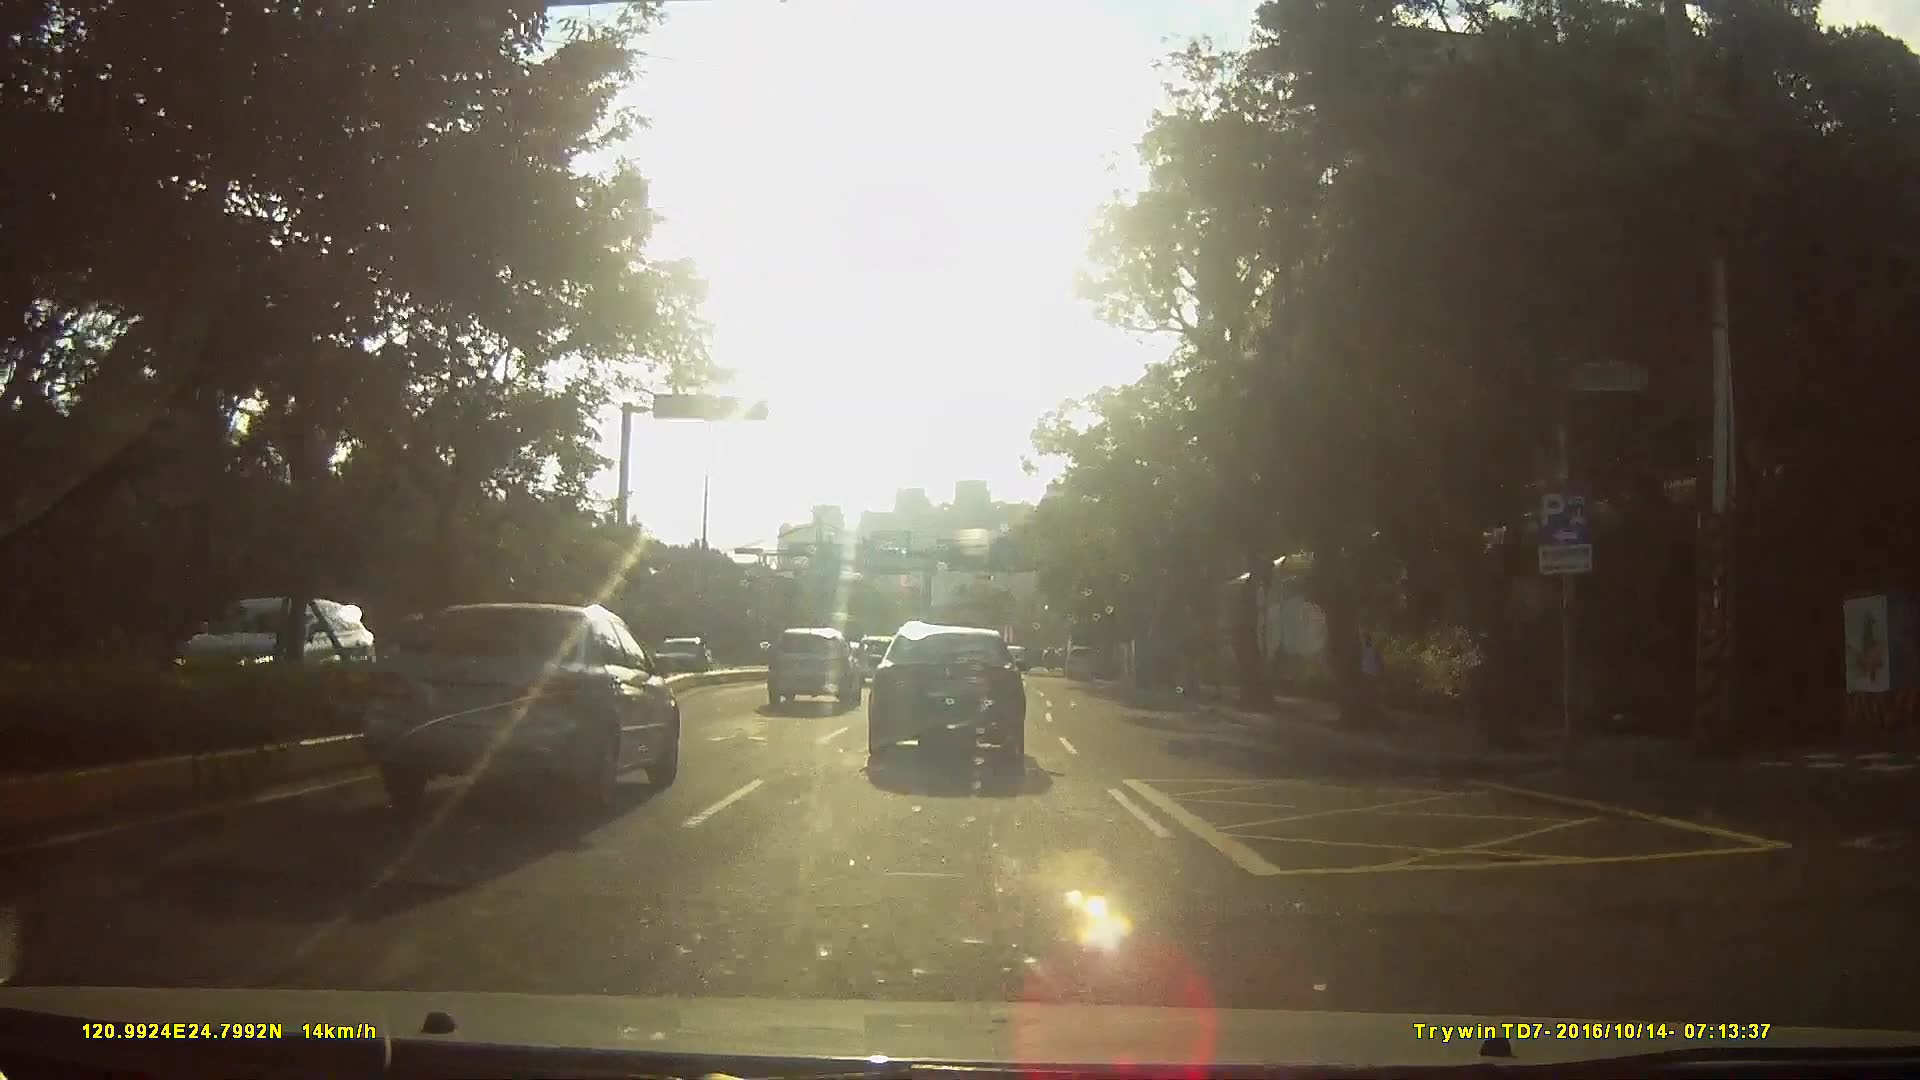vehicle: (357, 599, 678, 810), (158, 592, 377, 715), (865, 622, 1042, 767), (762, 622, 861, 707), (636, 630, 695, 675), (1060, 645, 1098, 680)
